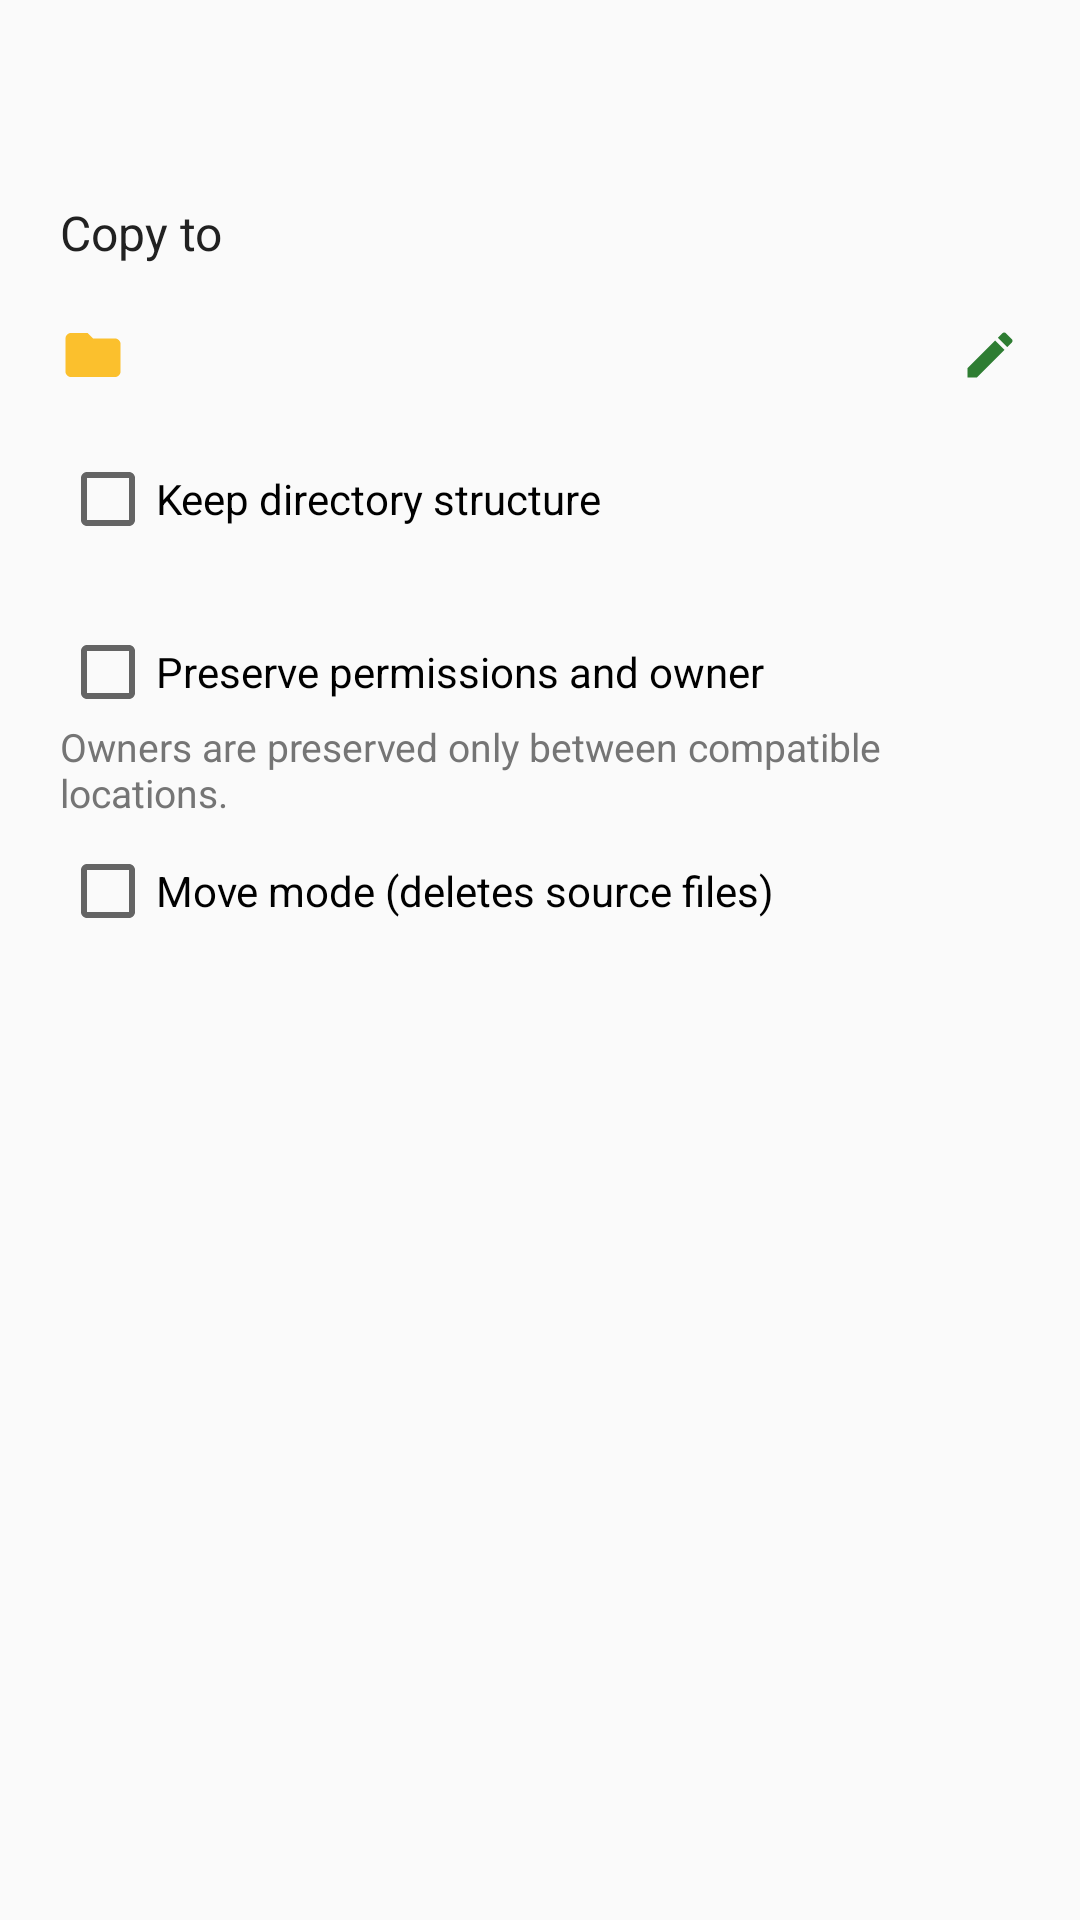

Icons on this 1080*1920 Android screen, each with the point to tap as [x,y]:
edit: [990,355]
folder: [93,355]
